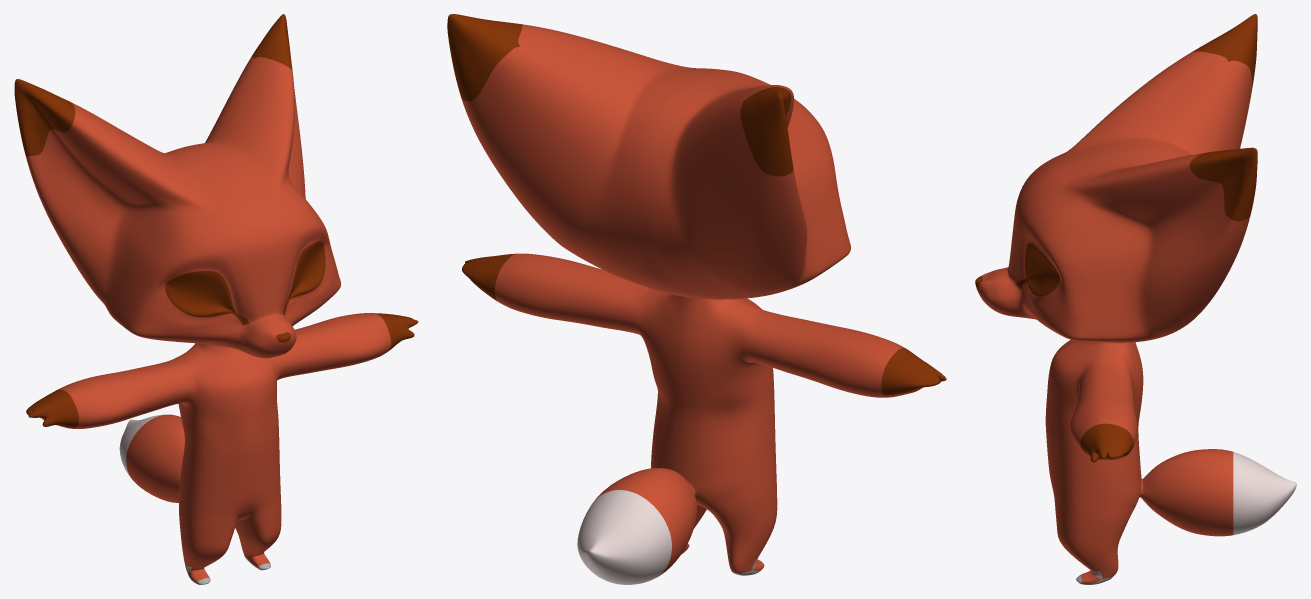
The model's file is fox_smooth_test.fbx.
3 renders of one model, left to right at view 1: azimuth 30°, elevation 25°; view 2: azimuth 150°, elevation 25°; view 3: azimuth 270°, elevation 25°, orthographic. The views are drawn at different scales.
Visible parts, largest first — view 1: TETE; view 2: TETE; view 3: TETE.
Boxes of the visible parts, box(x1,y1,x2,y2) form: TETE: box(14, 14, 418, 584); TETE: box(447, 14, 946, 584); TETE: box(975, 14, 1296, 584).
Bounding box in the file's own units: 125 × 144 × 86.16.
